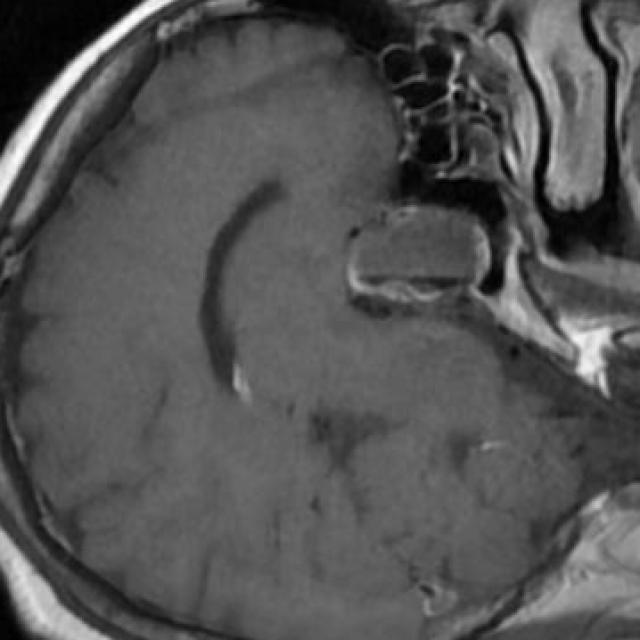pituitary: (346, 205, 490, 301)
